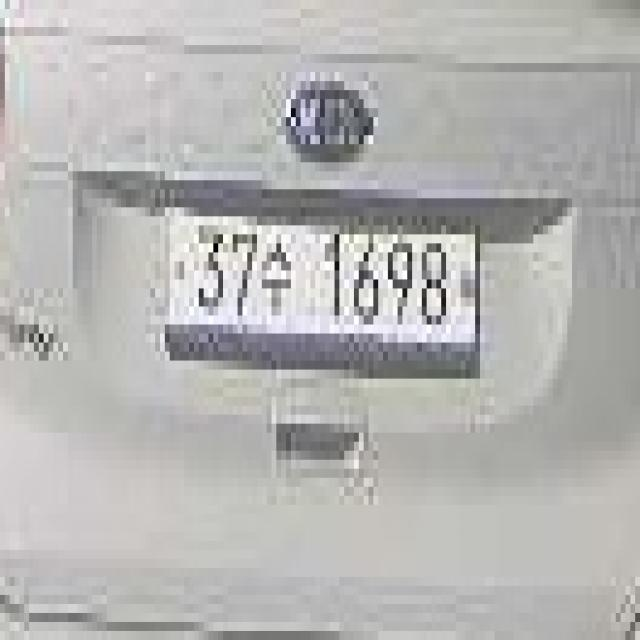1: (325, 226, 344, 324)
3: (194, 217, 228, 316)
6: (354, 225, 383, 342)
7: (228, 226, 262, 316)
8: (417, 234, 451, 334)
9: (383, 225, 417, 334)
license_plate: (155, 189, 485, 361)
su: (262, 234, 291, 316)
